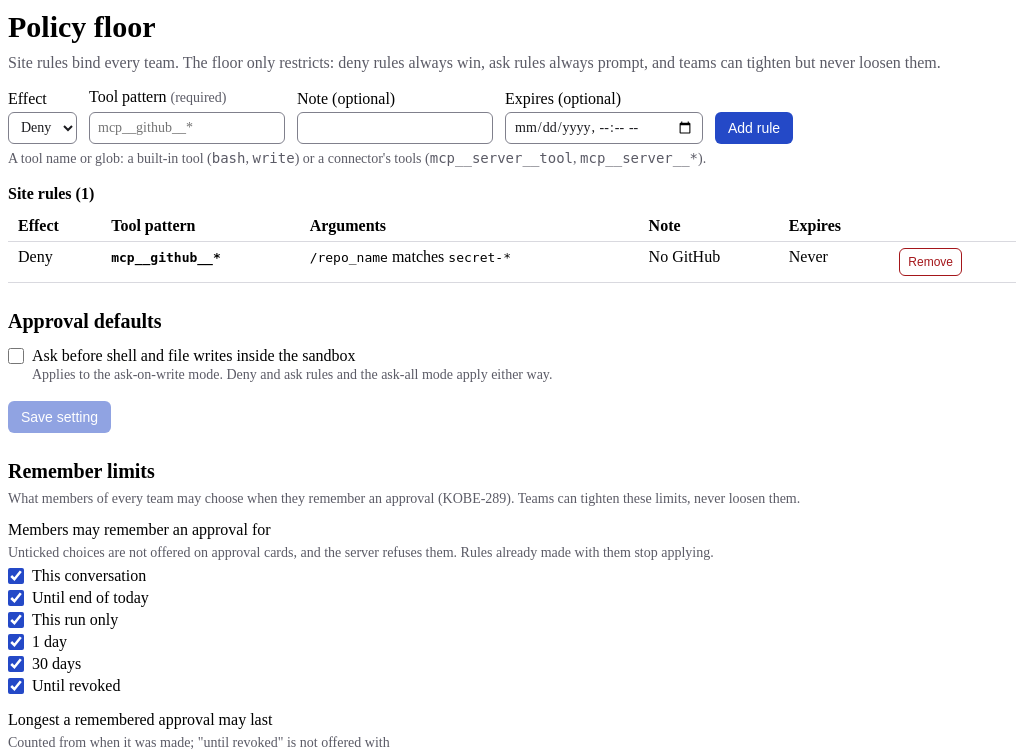
Test: Site policy floor › shows the server's validation and limit errors
This screenshot has width=1024, height=755.
Type "x" into the field labelled "Tool pattern(required)" at (187, 128), box [89,112,285,144]
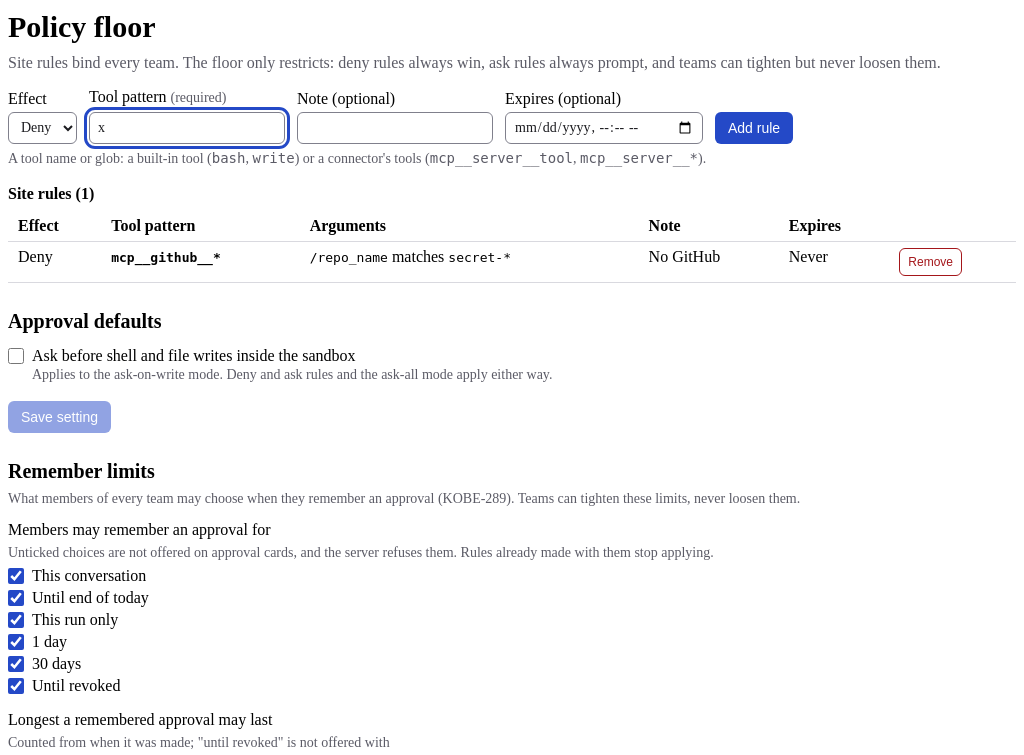
Click the button "Add rule" at (754, 128), box [715,112,793,144]
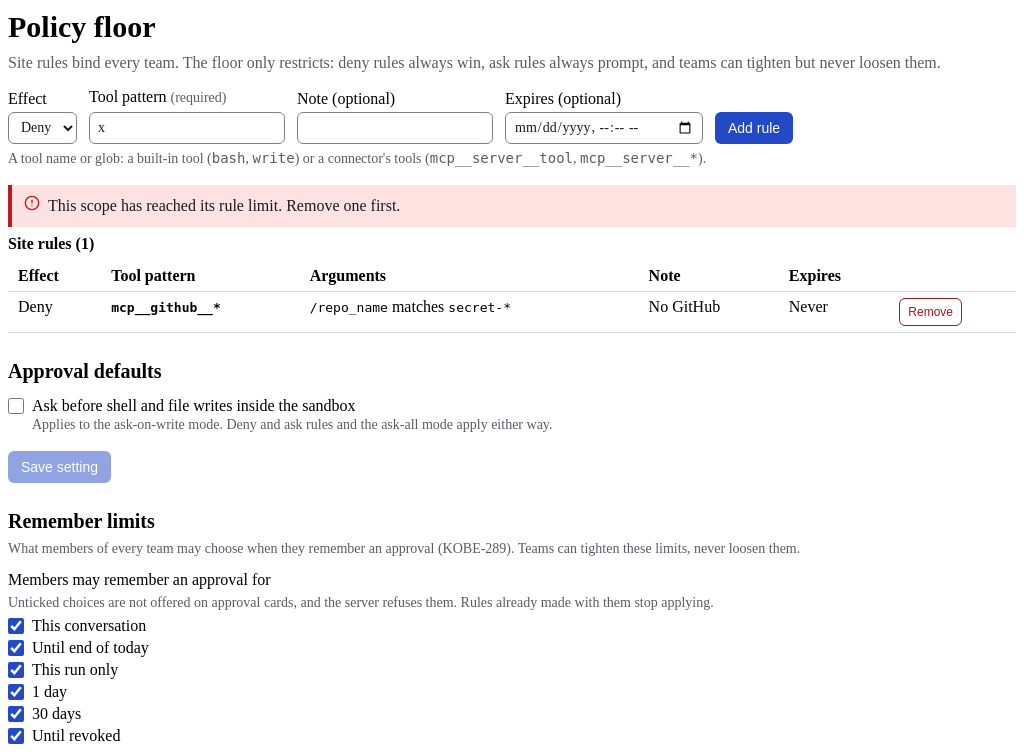
Expected: the message shows "rule limit", [48,196,400,214]
